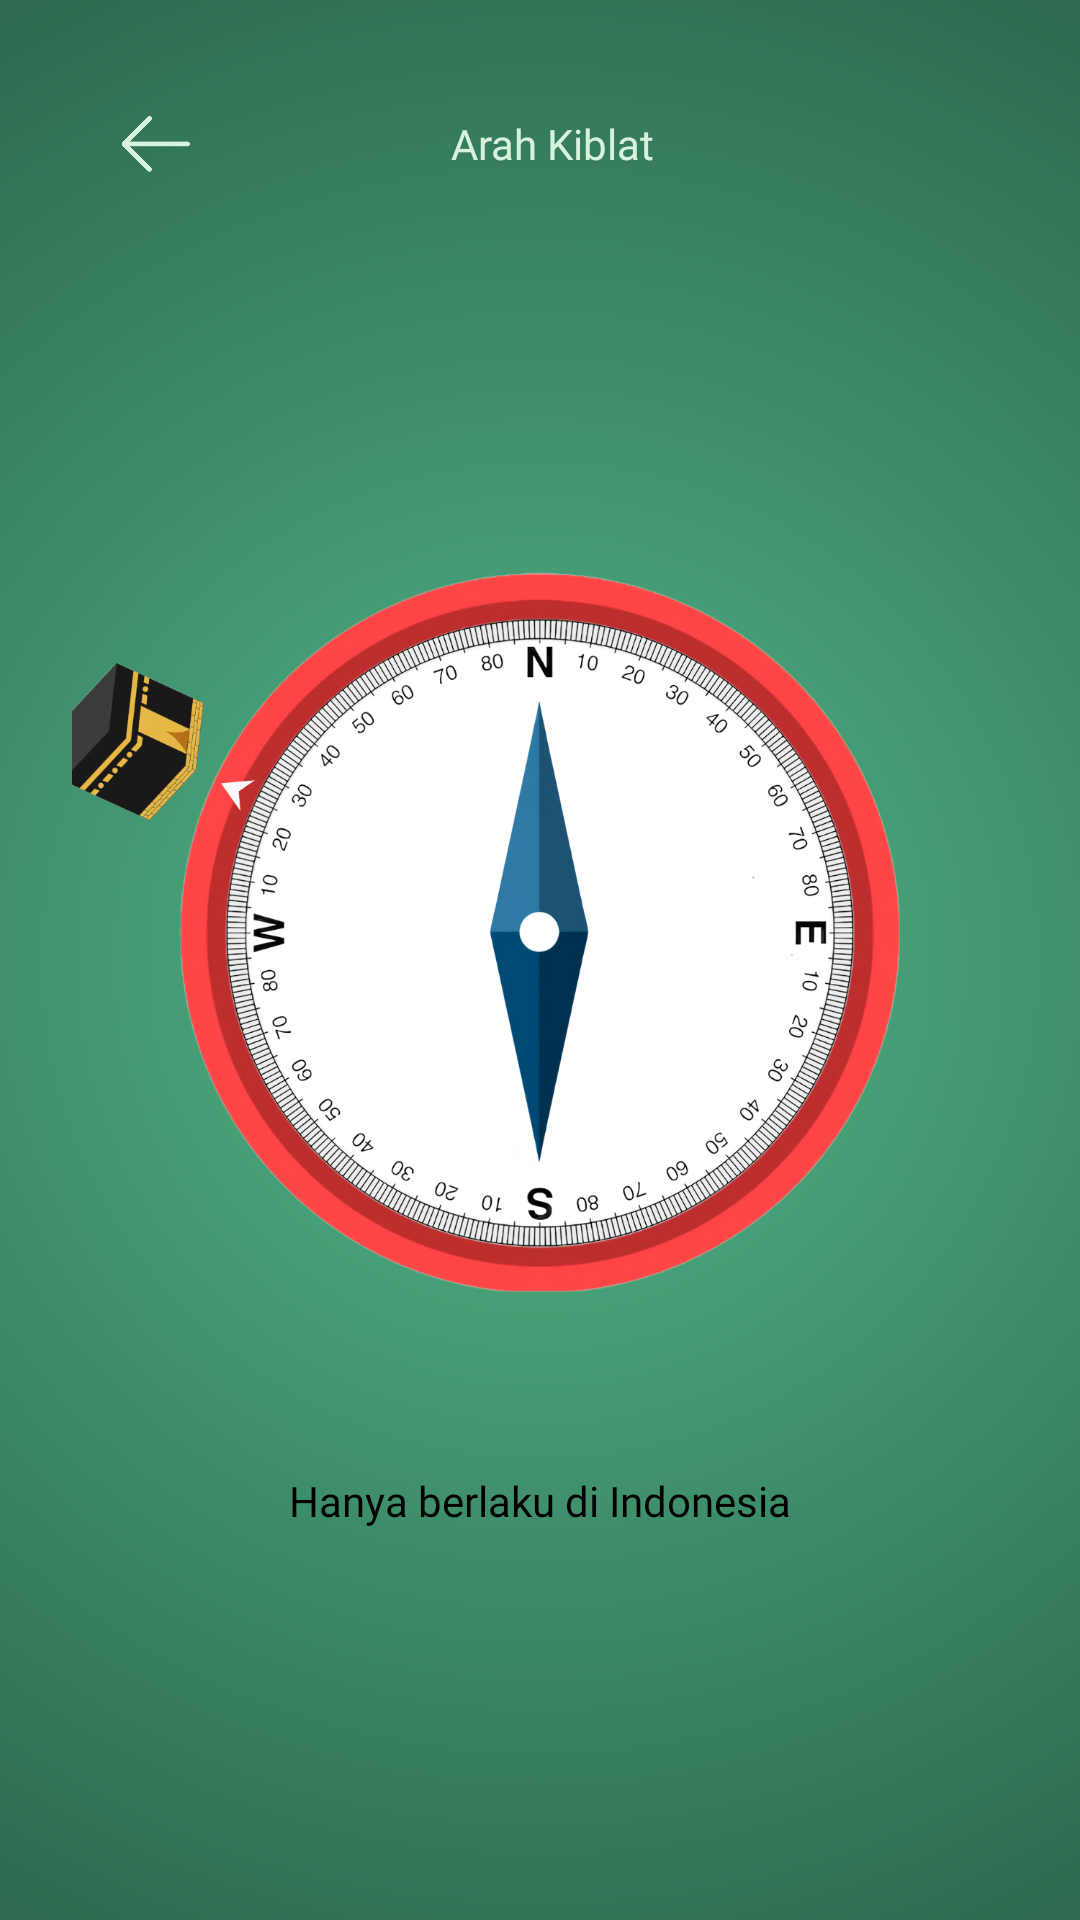

Icon click points for this 1080×1920 phone screenshot, format (x,y):
Kembali: (156,144)
